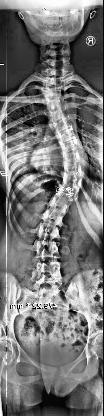Vertebrae: (32, 260, 62, 280), (46, 197, 74, 216), (35, 239, 61, 259), (54, 185, 80, 203), (39, 209, 65, 227), (60, 150, 86, 166), (35, 223, 61, 239), (55, 128, 79, 144), (60, 174, 84, 190), (60, 138, 82, 154), (44, 74, 66, 88), (41, 85, 63, 99), (47, 109, 69, 123), (62, 163, 84, 177), (44, 96, 64, 110), (52, 119, 72, 132)
